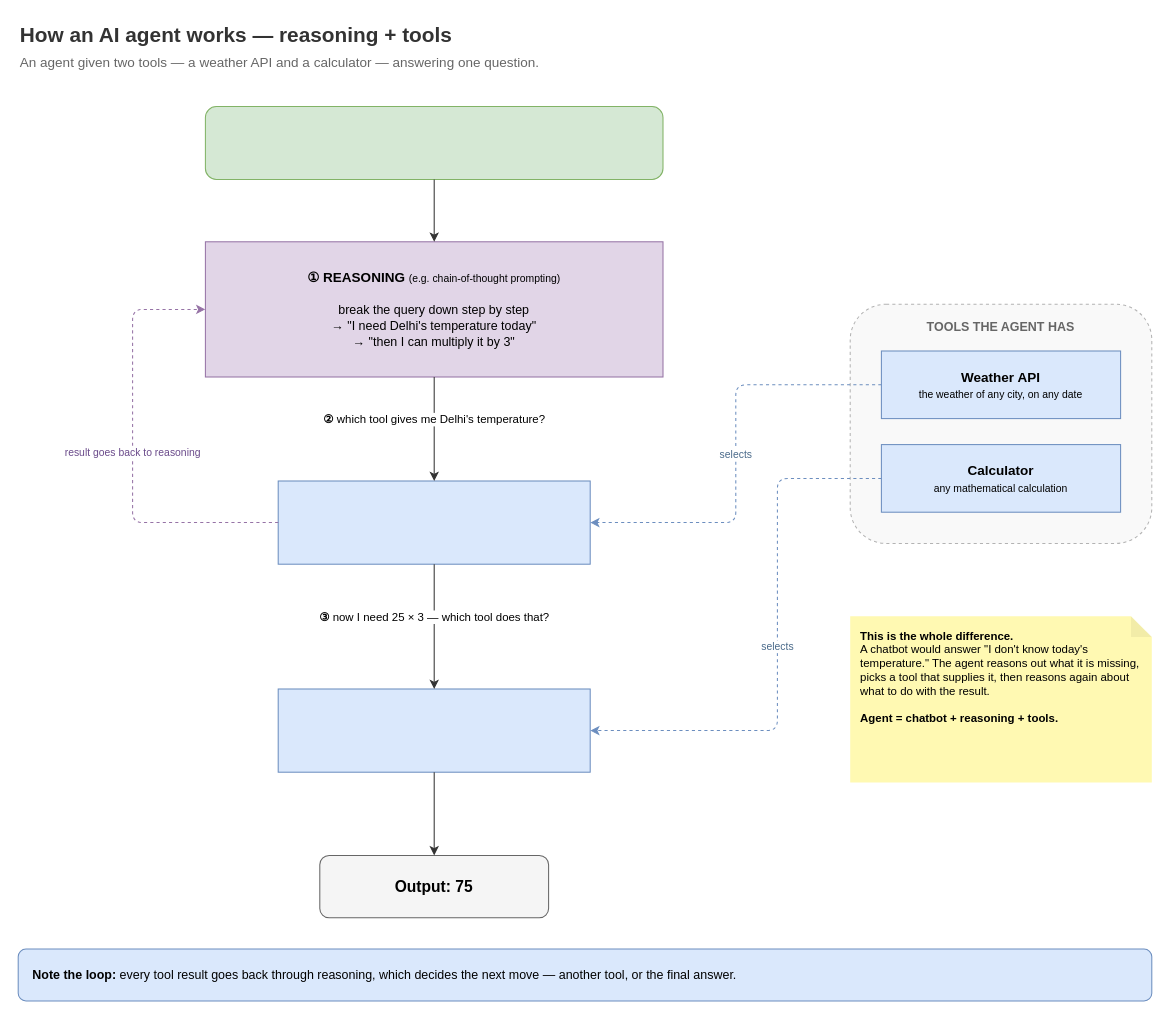
The diagram is 1170 pixels wide and 1019 high, and some of its shapes have lost their labels. Each missing label, with the centre of its shape:
Calculator input: 25, 3, multiply → 75: [433,730]
Query "multiply today's temperature of Delhi with 3": [433,142]
Weather API input: "Delhi" → 25°C: [433,522]
